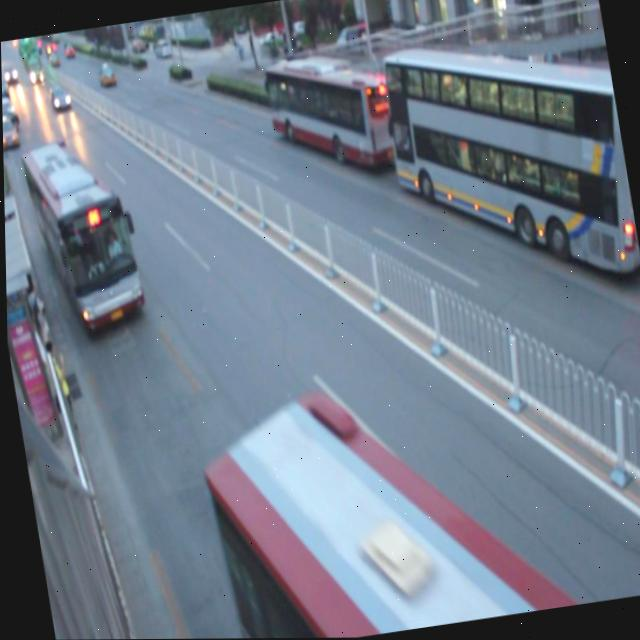car: (2, 115, 20, 149)
van: (194, 366, 559, 639), (376, 17, 640, 302), (19, 136, 145, 333), (264, 44, 400, 181)
